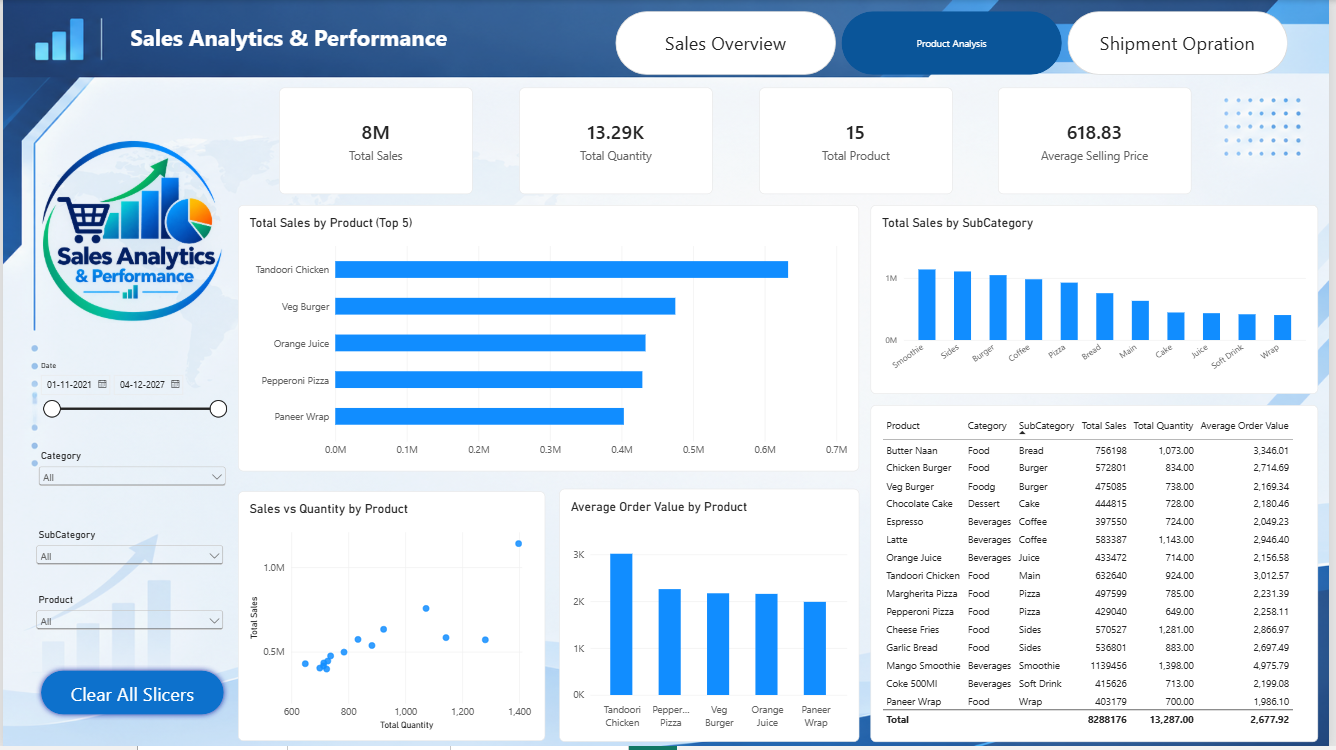

The page's visual inventory and layout, read from the dashboard file:
{"tool":"powerbi","page":{"name":"Product Analysis","canvas":[1920,1080],"ordinal":1},"visuals":[{"type":"card","fields":{"Values":["Measure.Total Sales"]},"box":[400.1,126.4,279.9,154.4],"z":0},{"type":"slicer","fields":{"Values":["Dim_Date.Date"]},"box":[47.9,523,280.5,103.2],"z":0,"group":"g1"},{"type":"card","fields":{"Values":["Measure.Total Quantity"]},"box":[747.4,126.7,279.9,154.4],"z":1000},{"type":"slicer","fields":{"Values":["Dim_Product.Category"]},"box":[47.7,652,280.5,103.2],"z":1000,"group":"g1"},{"type":"card","fields":{"Values":["Measure.Total Product"]},"box":[1094.8,126.7,279.9,154.4],"z":2000},{"type":"slicer","fields":{"Values":["Dim_Product.SubCategory"]},"box":[43.9,764.9,280.5,103.2],"z":2000,"group":"g1"},{"type":"card","fields":{"Values":["Measure.Average Selling Price"]},"box":[1440.5,126.7,279.9,154.4],"z":3000},{"type":"slicer","fields":{"Values":["Dim_Product.Product"]},"box":[43.4,859,280.5,103.2],"z":3000,"group":"g1"},{"type":"pageNavigator","box":[886.7,16.3,975.6,92.6],"z":4000},{"type":"textbox","box":[184.6,32.6,499.5,59.7],"z":5000},{"type":"tableEx","fields":{"Values":["Dim_Product.Product","Dim_Product.Category","Dim_Product.SubCategory","Measure.Total Sales","Measure.Total Quantity","Measure.Average Order Value"]},"box":[1255.9,586.3,648.4,487.8],"z":6000},{"type":"clusteredBarChart","title":"Total Sales by Product (Top 5)","fields":{"Category":["Dim_Product.Product"],"Y":["Measure.Total Sales"]},"box":[340.2,296.8,899.4,385.5],"z":7000},{"type":"columnChart","fields":{"Category":["Dim_Product.SubCategory"],"Y":["Measure.Total Sales"]},"box":[1255.9,296.8,647.9,273.3],"z":8000},{"type":"scatterChart","title":"Sales vs Quantity by Product","fields":{"Category":["Dim_Product.Product"],"X":["Measure.Total Quantity"],"Y":["Measure.Total Sales"]},"box":[340.2,711.2,445.2,361.9],"z":9000},{"type":"columnChart","fields":{"Category":["Dim_Product.Product"],"Y":["Measure.Average Order Value"]},"box":[805.3,707.6,434.3,366.4],"z":10000},{"type":"group","id":"g1","title":"Group 1","box":[43.4,523,284.1,439.7],"z":11000},{"type":"image","box":[47.1,195.4,280,272],"z":12000},{"type":"actionButton","box":[47.1,962.7,280.5,79.6],"z":12001}]}

Visuals, with their boxes in screenshot pixels (x1, y1, x2, y2), scaled from the page's 1920x1080 canvas onto the 1336x750 screenshot:
card - Measure.Total Sales: <region>278, 88, 473, 195</region>
slicer - Dim_Date.Date: <region>33, 363, 229, 435</region>
card - Measure.Total Quantity: <region>520, 88, 715, 195</region>
slicer - Dim_Product.Category: <region>33, 453, 228, 524</region>
card - Measure.Total Product: <region>762, 88, 957, 195</region>
slicer - Dim_Product.SubCategory: <region>31, 531, 226, 603</region>
card - Measure.Average Selling Price: <region>1002, 88, 1197, 195</region>
slicer - Dim_Product.Product: <region>30, 597, 225, 668</region>
pageNavigator: <region>617, 11, 1296, 76</region>
textbox: <region>128, 23, 476, 64</region>
tableEx - Dim_Product.Product x Dim_Product.Category: <region>874, 407, 1325, 746</region>
"Total Sales by Product (Top 5)" clusteredBarChart: <region>237, 206, 863, 474</region>
columnChart - Dim_Product.SubCategory x Measure.Total Sales: <region>874, 206, 1325, 396</region>
"Sales vs Quantity by Product" scatterChart: <region>237, 494, 547, 745</region>
columnChart - Dim_Product.Product x Measure.Average Order Value: <region>560, 491, 863, 746</region>
"Group 1" group: <region>30, 363, 228, 669</region>
image: <region>33, 136, 228, 325</region>
actionButton: <region>33, 669, 228, 724</region>
